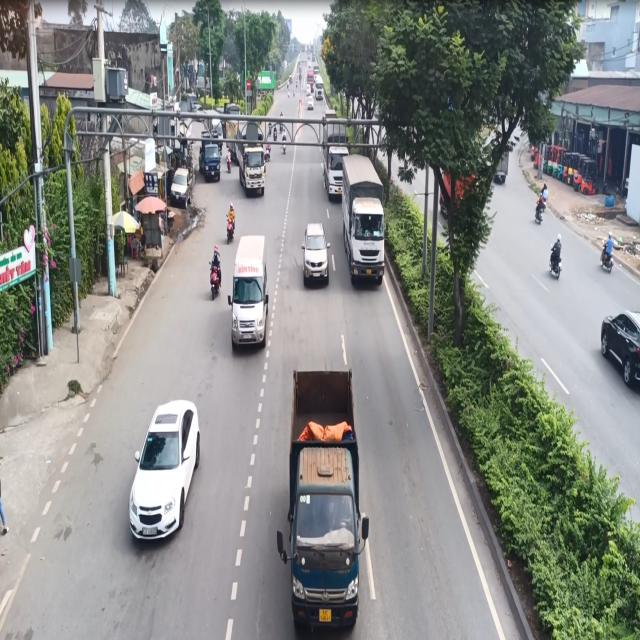car: (129, 390, 201, 556), (228, 231, 272, 358), (301, 216, 331, 287)
motor: (207, 241, 224, 303), (226, 194, 236, 240)
truck: (278, 368, 374, 640), (341, 153, 390, 295)
